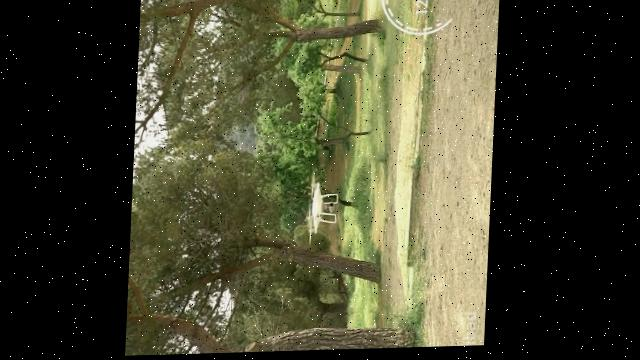drone: (305, 168, 340, 250)
